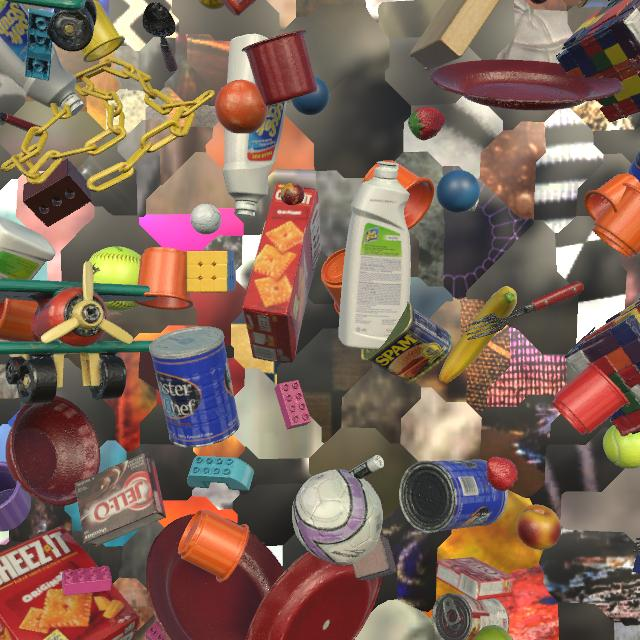ycb_002_master_chef_can: (149, 326, 240, 448), (399, 459, 508, 533), (626, 150, 640, 182)
ycb_003_cracker_box: (0, 525, 140, 640), (242, 183, 321, 363)
ycb_005_tomato_soup_can: (432, 593, 510, 640)
ycb_008_pudding_box: (75, 454, 166, 547)
ycb_009_gelatin_box: (436, 557, 515, 600)
ycb_010_potted_meat_can: (361, 302, 452, 384)
ycb_011_banana: (439, 286, 517, 384)
ycb_012_strawberry: (408, 107, 445, 140), (486, 457, 518, 491)
ycb_014_lemon: (198, 0, 225, 10)
ycb_015_peach: (516, 505, 561, 550)
ycb_016_pear: (473, 625, 513, 640)
ycb_017_orange: (215, 80, 268, 134)
